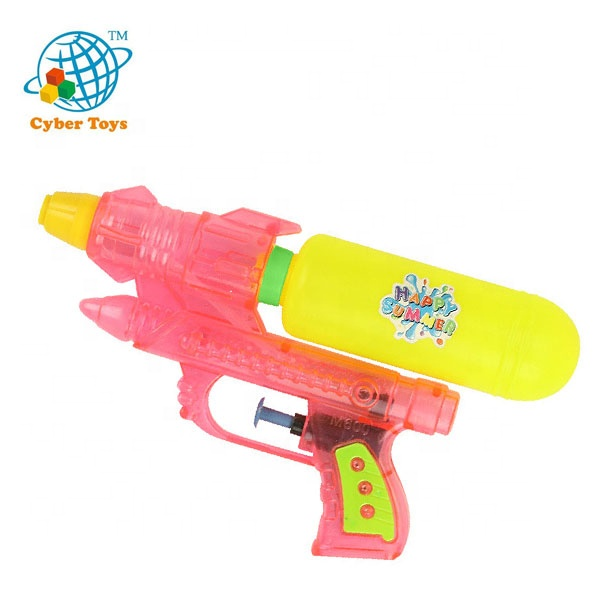Arma Falsa: (36, 180, 582, 581)
